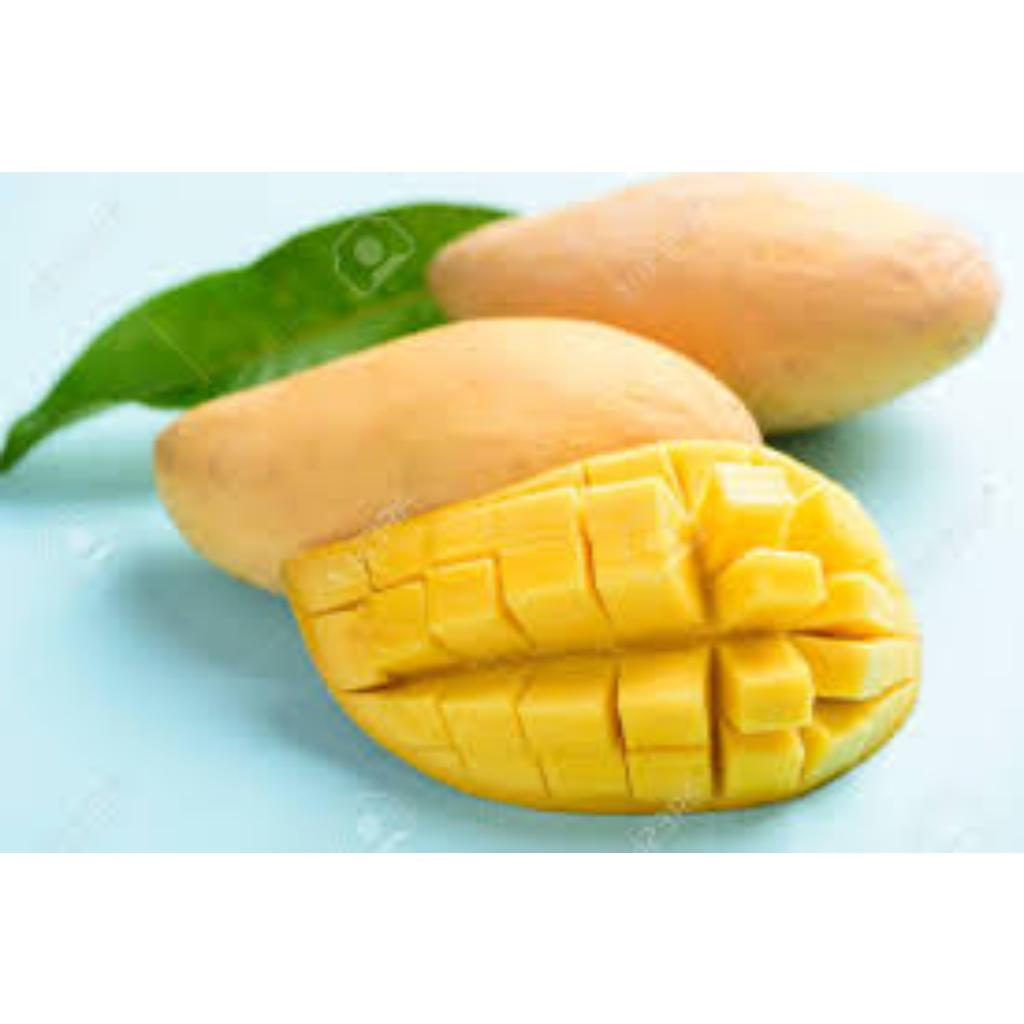mango: (279, 439, 923, 819), (154, 310, 772, 605), (419, 171, 999, 438)
